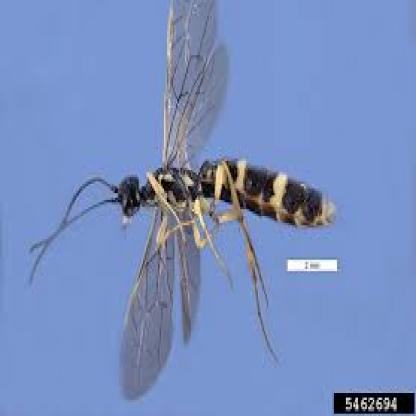sawfly: (27, 1, 332, 401)
